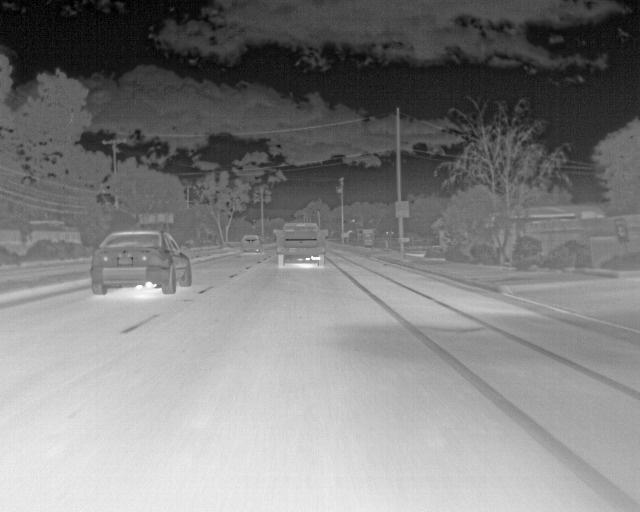car: (91, 229, 193, 296), (274, 223, 327, 269), (240, 235, 259, 252)
